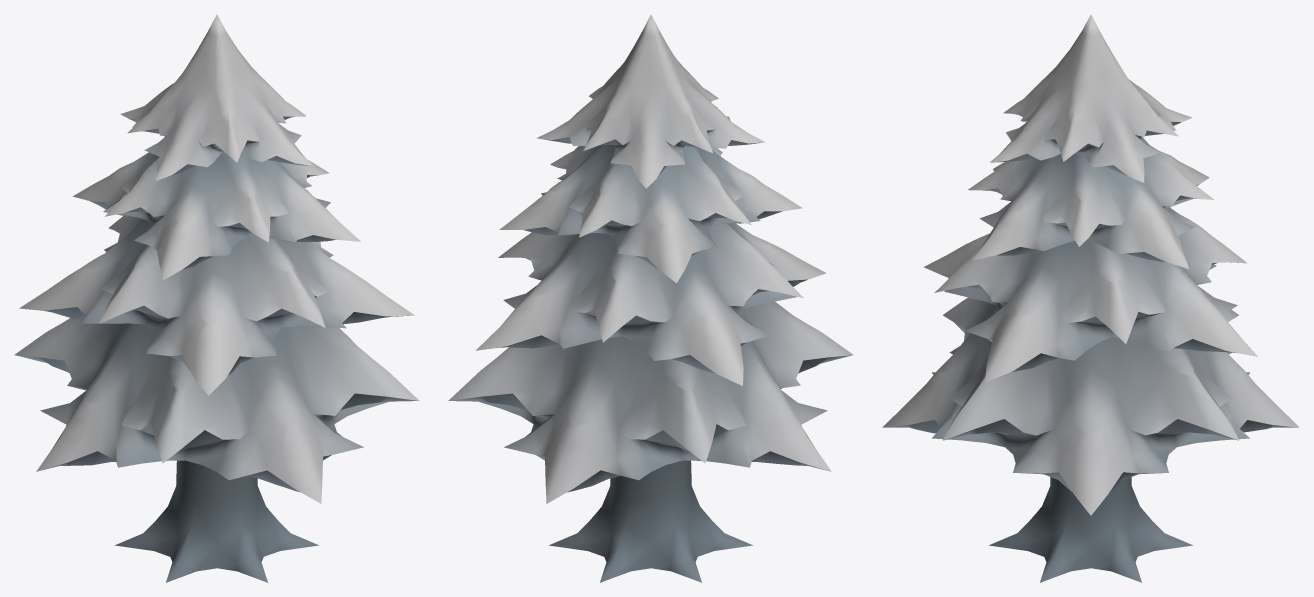
File: S_Spruce.fbx
3 renders of one model, left to right at view 1: azimuth 30°, elevation 25°; view 2: azimuth 150°, elevation 25°; view 3: azimuth 270°, elevation 25°, orthographic.
Visible parts, largest first — view 1: Spruce_GEO; view 2: Spruce_GEO; view 3: Spruce_GEO.
Part boxes in pixels (x1=…): Spruce_GEO: x1=14, y1=14, x2=419, y2=582; Spruce_GEO: x1=448, y1=14, x2=853, y2=582; Spruce_GEO: x1=882, y1=14, x2=1299, y2=582.
Size of the model in its own units: 4.04 by 5.67 by 4.04.
